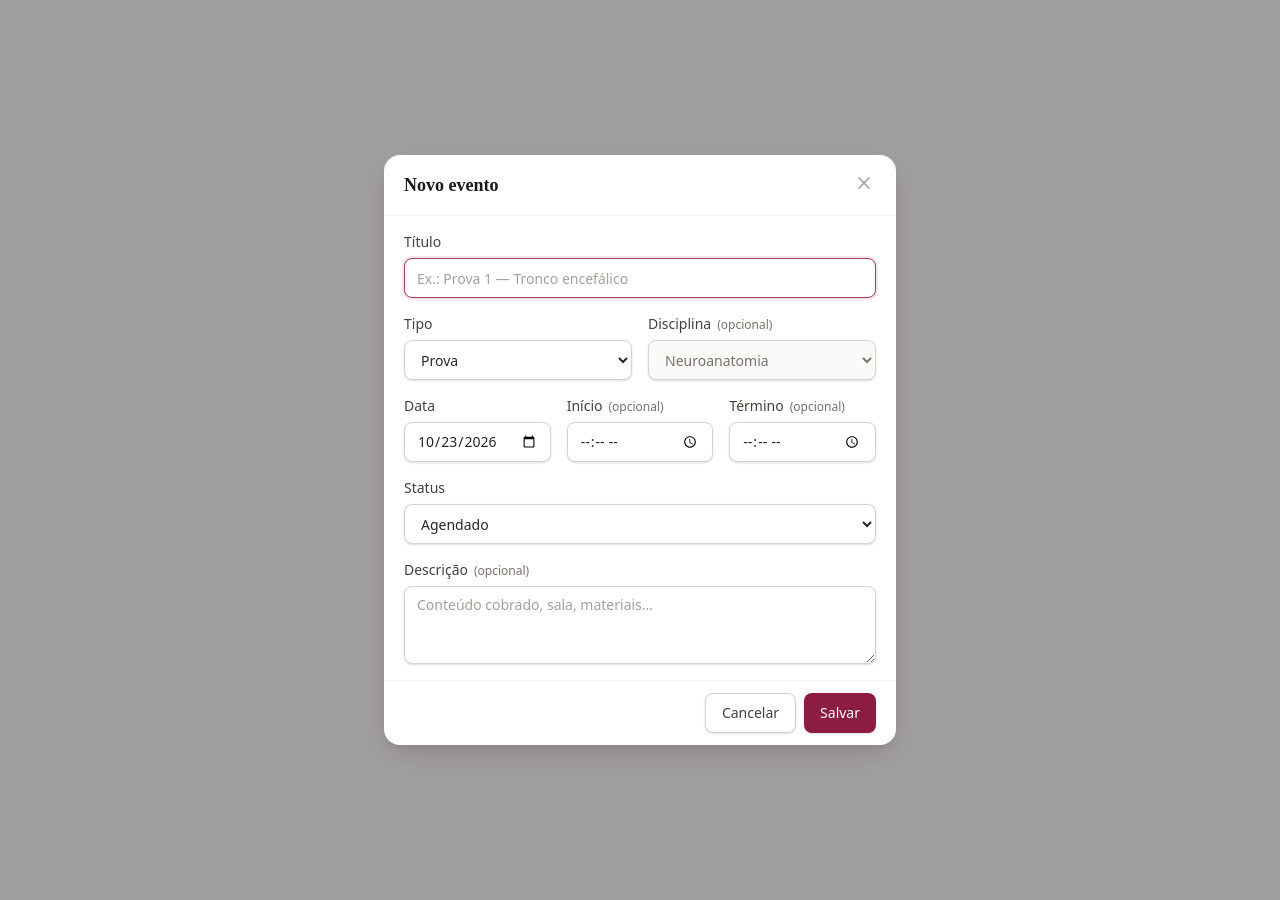
Scenario: FormularioEvento › cria a prova vinculada à disciplina e fecha
In the field labelled "Título": coordinates (640, 278) [404, 258, 876, 298], type "Prova 1 — Tronco"
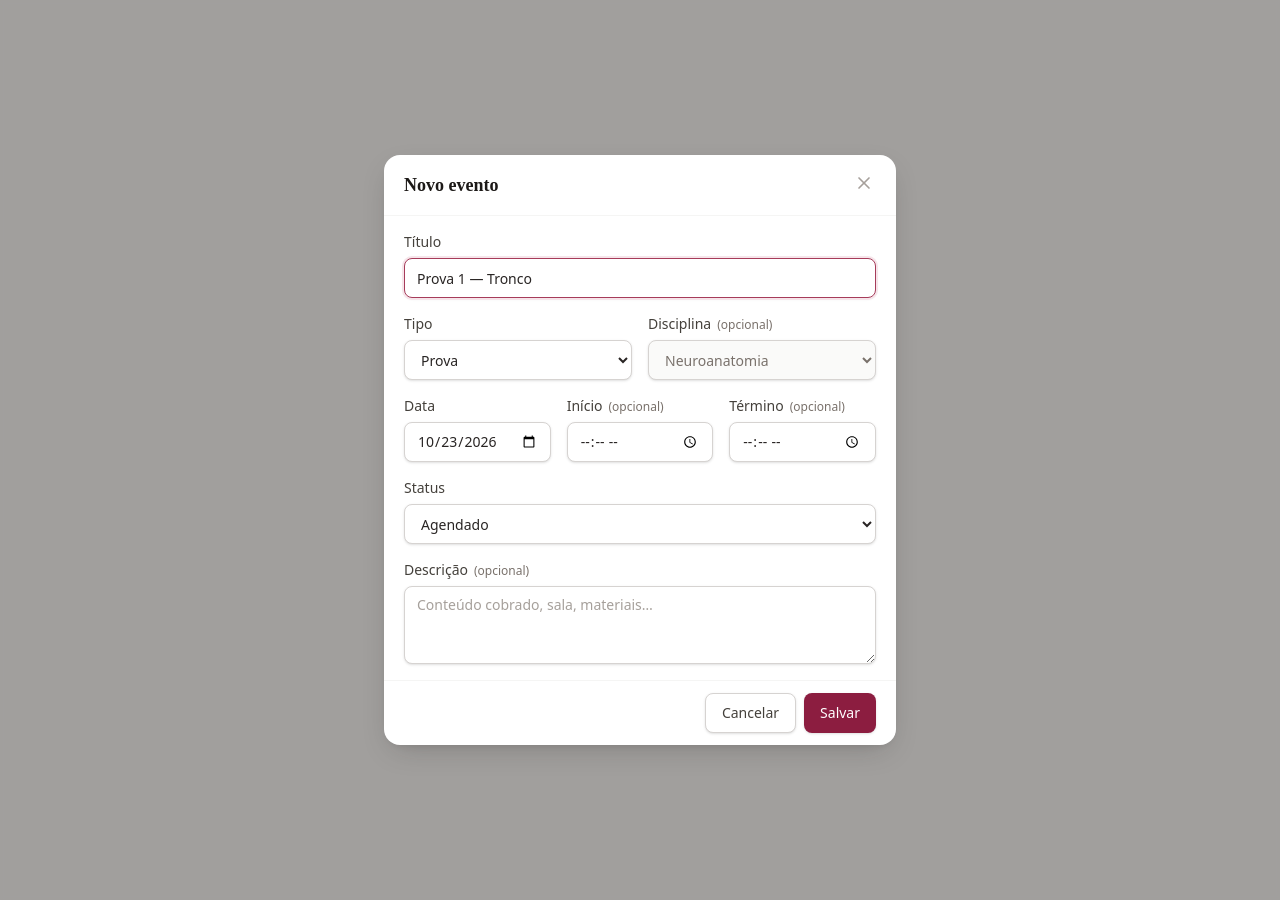
In the time field labelled "Início (opcional)": coordinates (640, 442) [567, 422, 713, 462], type "08:00"
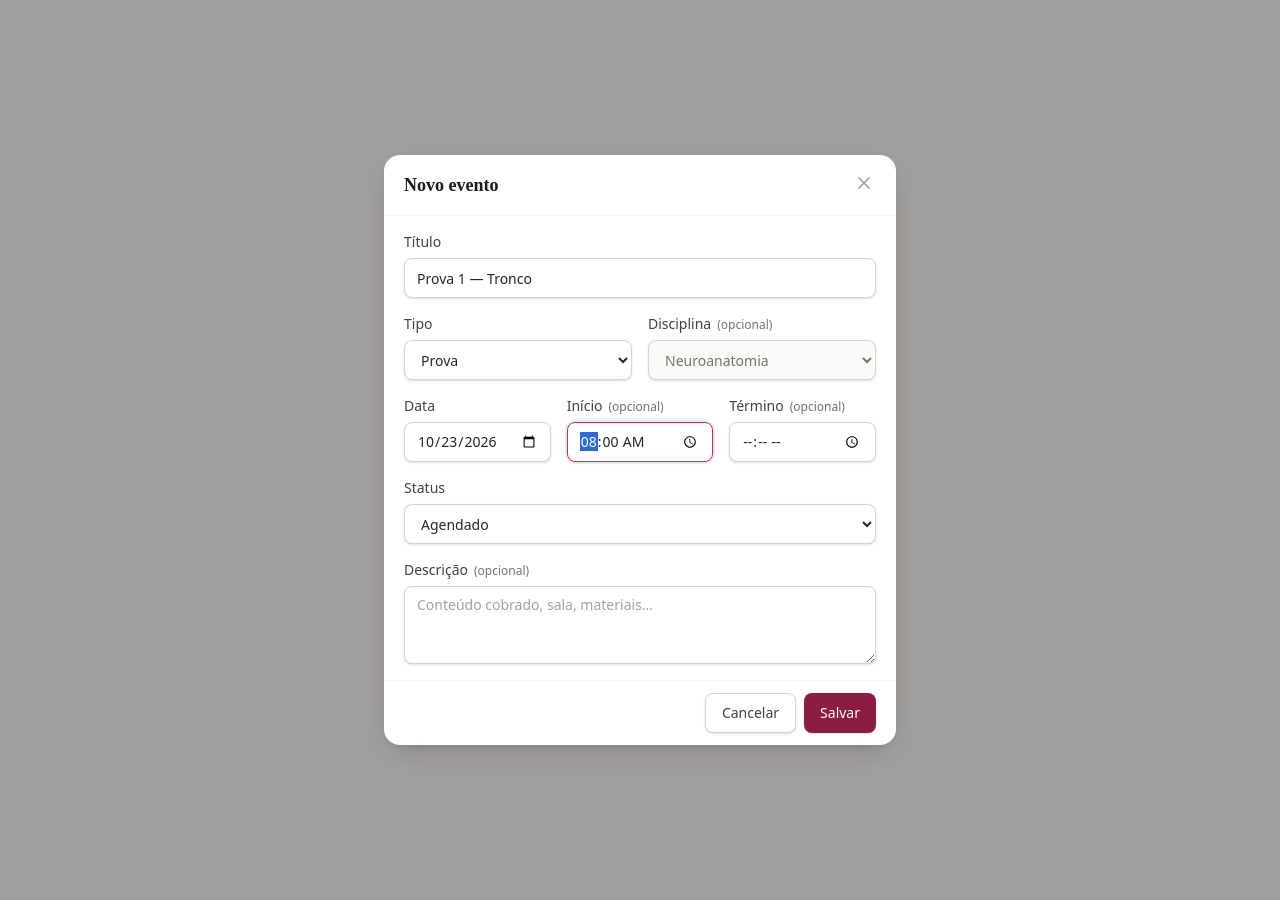
Click the button "Salvar": coordinates (840, 713) [804, 693, 876, 733]
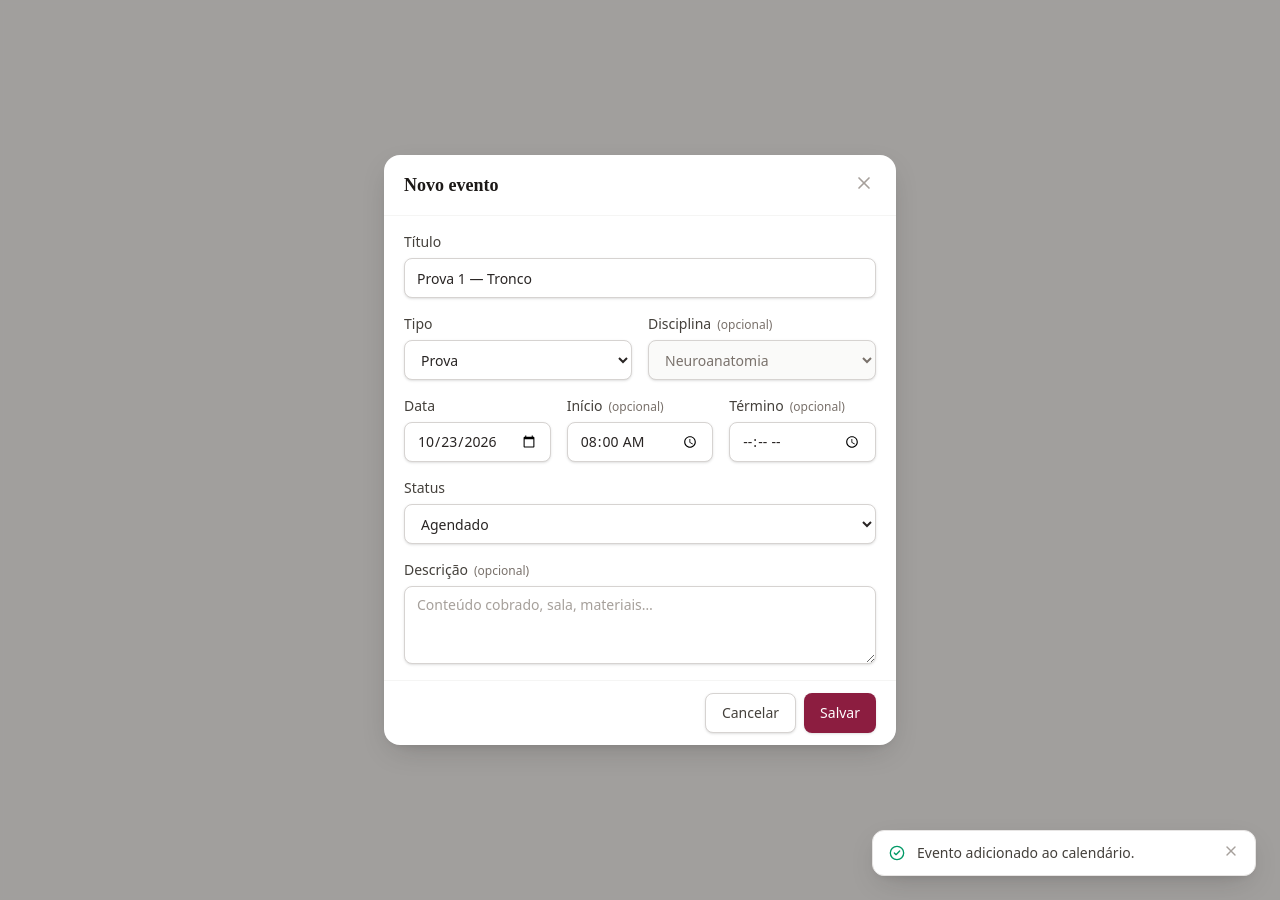
Check: the text "Evento adicionado ao calendário." is shown, box [917, 843, 1134, 862]
